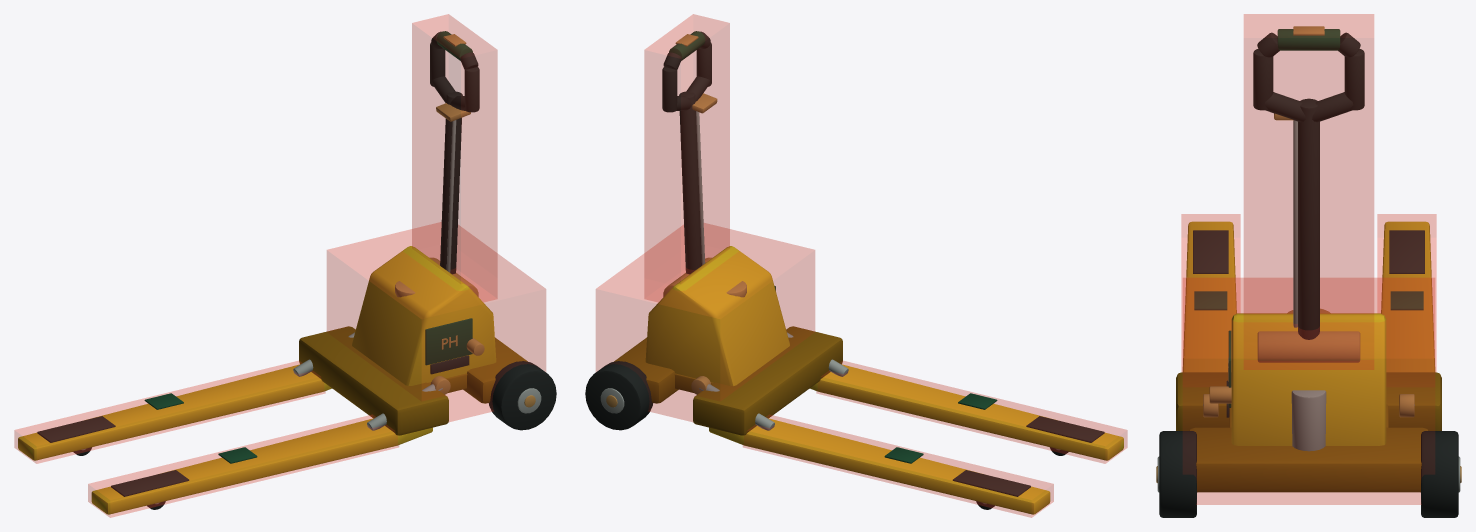
File: delivery_pallet_jack.glb
3 views of the same model, side by side, from view 1: azimuth 30°, elevation 25°; view 2: azimuth 150°, elevation 25°; view 3: azimuth 270°, elevation 25° (orthographic). The views are drawn at different scales.
Parts seen in each view (by area): view 1: COL_POWER_UNIT, COL_HANDLE, PUMP_HOUSING, COL_FORK_RIGHT, COL_FORK_LEFT, FORK_LEFT, FORK_RIGHT, FORK_HEEL_CROSSMEMBER, STEER_WHEEL_LEFT, HANDLE_STEM, BRAND_PLATE, STEERING_AXLE (+4 smaller); view 2: COL_POWER_UNIT, COL_HANDLE, PUMP_HOUSING, COL_FORK_RIGHT, COL_FORK_LEFT, FORK_RIGHT, FORK_LEFT, FORK_HEEL_CROSSMEMBER, STEER_WHEEL_RIGHT, HANDLE_STEM, STEERING_AXLE, FORK_WEAR_PAD_RIGHT (+3 smaller); view 3: COL_POWER_UNIT, COL_HANDLE, PUMP_HOUSING, STEERING_AXLE, FORK_RIGHT, FORK_LEFT, FORK_HEEL_CROSSMEMBER, HANDLE_STEM, COL_FORK_LEFT, COL_FORK_RIGHT, STEER_WHEEL_LEFT, STEER_WHEEL_RIGHT (+16 smaller).
Boxes of the visible parts, x1,y1,x2,y2 form: COL_POWER_UNIT: (327, 222, 545, 421); COL_HANDLE: (412, 14, 497, 301); PUMP_HOUSING: (352, 246, 496, 386); COL_FORK_RIGHT: (14, 361, 325, 463); COL_FORK_LEFT: (88, 415, 398, 517); FORK_LEFT: (91, 418, 432, 514); FORK_RIGHT: (18, 364, 331, 460); FORK_HEEL_CROSSMEMBER: (299, 326, 448, 435); STEER_WHEEL_LEFT: (488, 361, 556, 430); HANDLE_STEM: (440, 91, 462, 274); BRAND_PLATE: (425, 318, 472, 365); STEERING_AXLE: (463, 337, 527, 403); COL_POWER_UNIT: (596, 223, 814, 421); COL_HANDLE: (644, 14, 729, 301); PUMP_HOUSING: (645, 246, 789, 386); COL_FORK_RIGHT: (743, 415, 1053, 517); COL_FORK_LEFT: (816, 361, 1127, 463); FORK_RIGHT: (709, 418, 1050, 514); FORK_LEFT: (810, 364, 1123, 460); FORK_HEEL_CROSSMEMBER: (693, 326, 842, 435); STEER_WHEEL_RIGHT: (585, 361, 653, 430); HANDLE_STEM: (679, 91, 701, 274); STEERING_AXLE: (614, 337, 678, 403); FORK_WEAR_PAD_RIGHT: (952, 470, 1030, 496); COL_POWER_UNIT: (1183, 278, 1434, 504); COL_HANDLE: (1244, 14, 1373, 369); PUMP_HOUSING: (1231, 313, 1386, 445); STEERING_AXLE: (1189, 427, 1428, 492); FORK_RIGHT: (1381, 221, 1435, 372); FORK_LEFT: (1182, 221, 1236, 372); FORK_HEEL_CROSSMEMBER: (1176, 372, 1441, 430); HANDLE_STEM: (1298, 98, 1319, 339); COL_FORK_LEFT: (1181, 214, 1240, 371); COL_FORK_RIGHT: (1377, 214, 1436, 371); STEER_WHEEL_LEFT: (1159, 431, 1196, 517); STEER_WHEEL_RIGHT: (1421, 431, 1458, 517).
Bounding box in the file's own units: 1.55 × 1.21 × 0.7.
